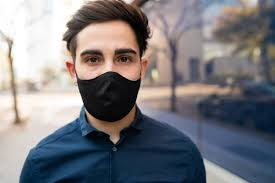MASK: (77, 72, 140, 122)
